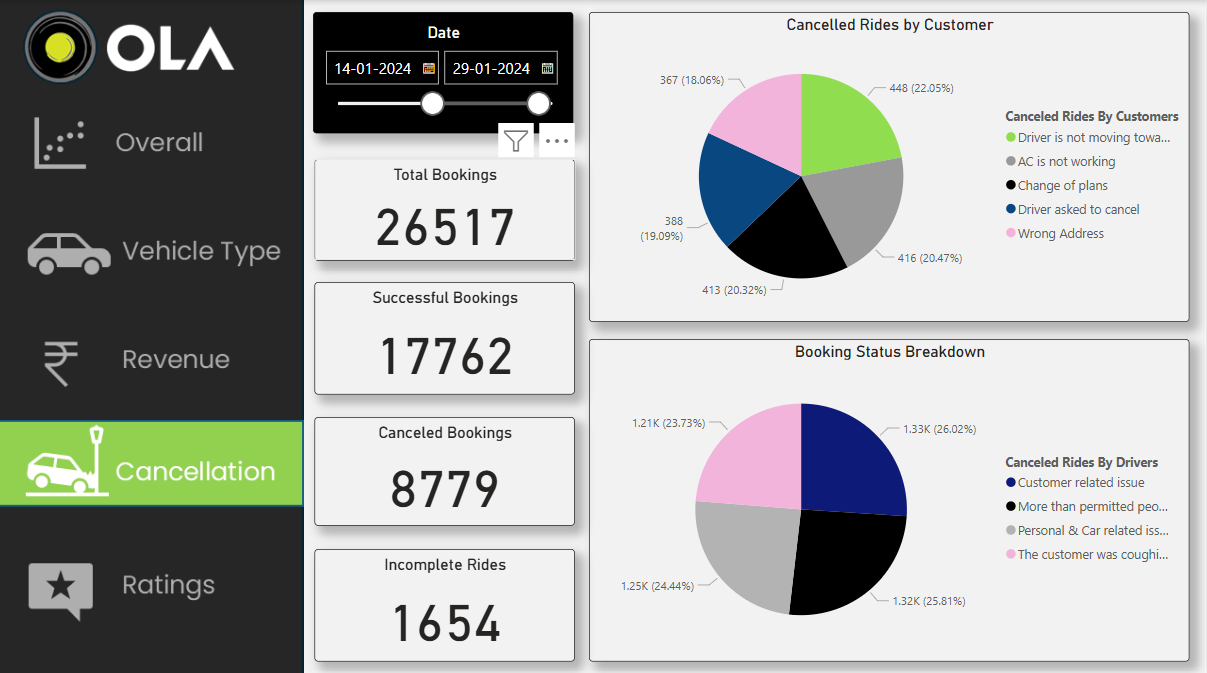

This screenshot's page, from the dashboard's own definition file:
{"tool":"powerbi","page":{"name":"Cancellation","canvas":[1280,720],"ordinal":3},"visuals":[{"type":"actionButton","box":[0,581.7,323.3,90],"z":0},{"type":"actionButton","box":[0,336.7,323.3,90],"z":1000},{"type":"actionButton","box":[0,223.3,323.3,90],"z":2000},{"type":"actionButton","box":[0,108.3,323.3,90],"z":3000},{"type":"pieChart","title":"Cancelled Rides by Customer","fields":{"Category":["Bengaluru_Ola_Booking_Data.Reason for Cancelling by Customer"],"Y":["CountNonNull(Bengaluru_Ola_Booking_Data.Reason for Cancelling by Customer)"]},"box":[627.4,13.2,636.9,328.8],"z":4000},{"type":"pieChart","title":"Booking Status Breakdown","fields":{"Category":["Bengaluru_Ola_Booking_Data.Reason for Cancelling by Driver"],"Y":["CountNonNull(Bengaluru_Ola_Booking_Data.Reason for Cancelling by Driver)"]},"box":[627.4,359.1,636.9,342],"z":5000},{"type":"slicer","title":"Date","fields":{"Values":["Bengaluru_Ola_Booking_Data.Date"]},"box":[334.5,13.2,275.9,128.5],"z":6000},{"type":"card","title":"Total Bookings","fields":{"Values":["Count(Bengaluru_Ola_Booking_Data.Booking ID)"]},"box":[336.4,168.2,275.9,107.7],"z":7000},{"type":"card","title":"Successful Bookings","fields":{"Values":["Count(Bengaluru_Ola_Booking_Data.Booking ID)"]},"box":[336.4,298.6,275.9,119.1],"z":8000},{"type":"card","title":"Canceled Bookings","fields":{"Values":["Count(Bengaluru_Ola_Booking_Data.Booking ID)"]},"box":[336.4,442.2,275.9,115.3],"z":9000},{"type":"card","title":"Incomplete Rides","fields":{"Values":["Sum(Bengaluru_Ola_Booking_Data.Incomplete Rides)"]},"box":[336.4,582.1,275.9,119.1],"z":10000}]}

Visuals, with their boxes on the page's 1280x720 design canvas (x1, y1, x2, y2). These are canvas units, not pixel positions in the 1207x673 screenshot, which may show the page scaled, cropped or inside an application window:
actionButton: bbox=[0, 582, 323, 672]
actionButton: bbox=[0, 337, 323, 427]
actionButton: bbox=[0, 223, 323, 313]
actionButton: bbox=[0, 108, 323, 198]
"Cancelled Rides by Customer" pieChart: bbox=[627, 13, 1264, 342]
"Booking Status Breakdown" pieChart: bbox=[627, 359, 1264, 701]
"Date" slicer: bbox=[334, 13, 610, 142]
"Total Bookings" card: bbox=[336, 168, 612, 276]
"Successful Bookings" card: bbox=[336, 299, 612, 418]
"Canceled Bookings" card: bbox=[336, 442, 612, 558]
"Incomplete Rides" card: bbox=[336, 582, 612, 701]
